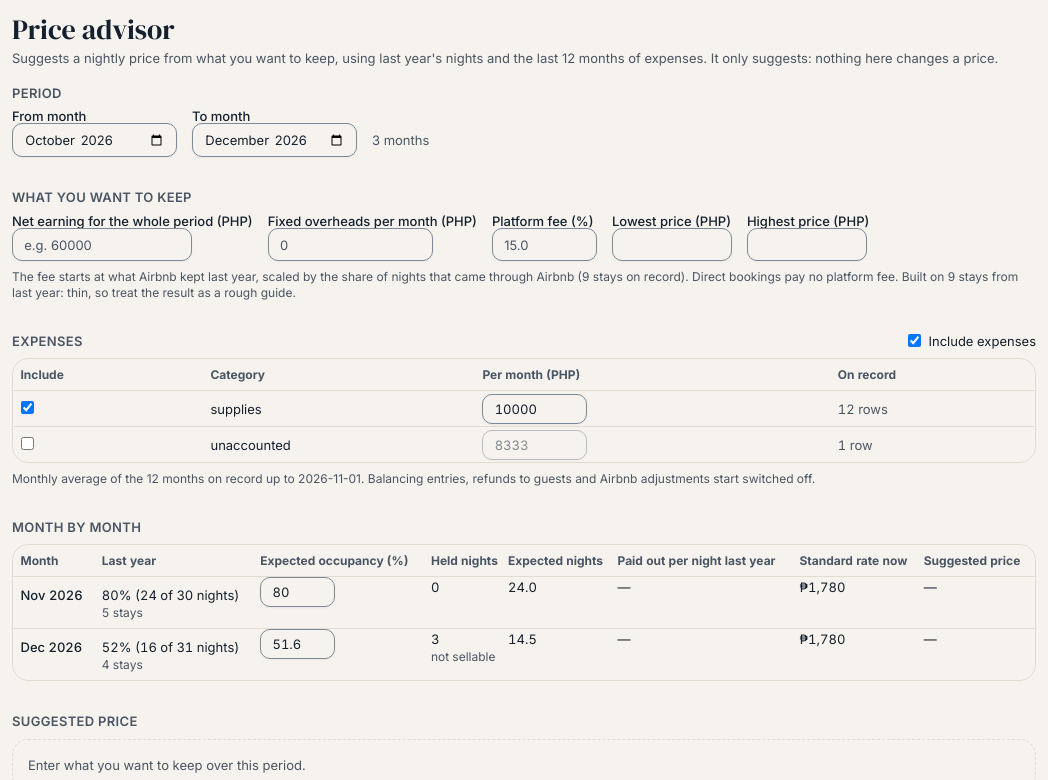
Test: a person who cannot publish rates sees the suggestion but no link
In the field labelled "Net earning for the whole period (PHP)": point(102, 244) [12,228,192,261], type "30000"
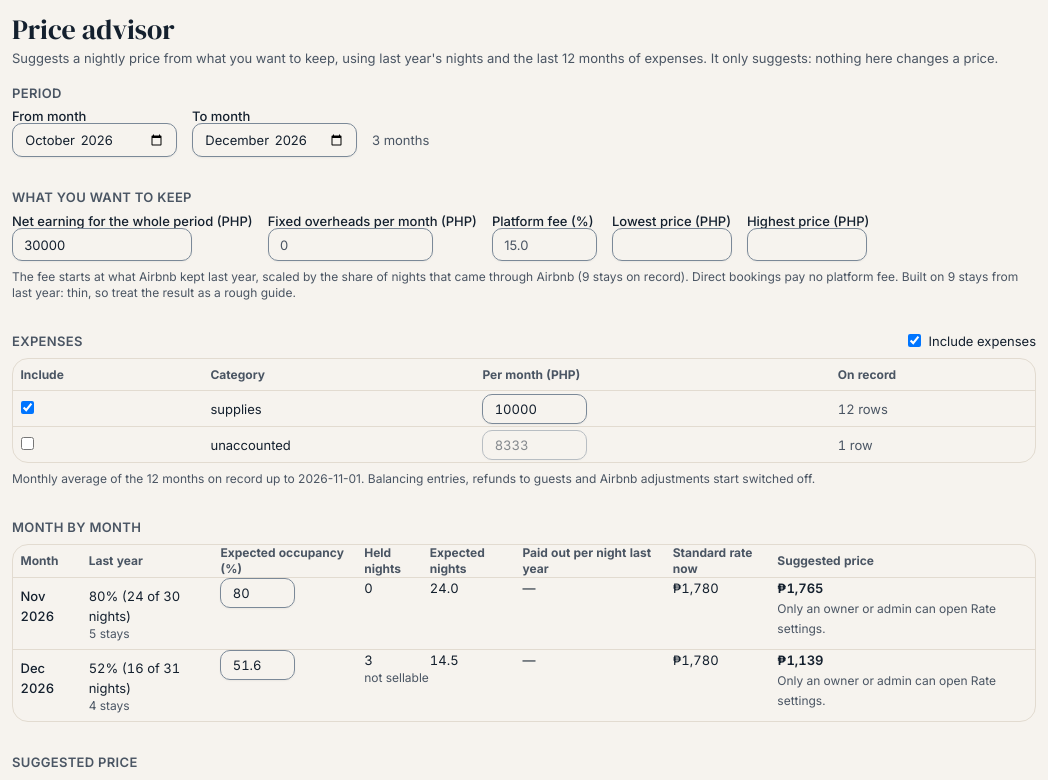
Result: the text "Only an owner or admin can open Rate settings." below "₱1,765" is shown at [777,601,996,636]
